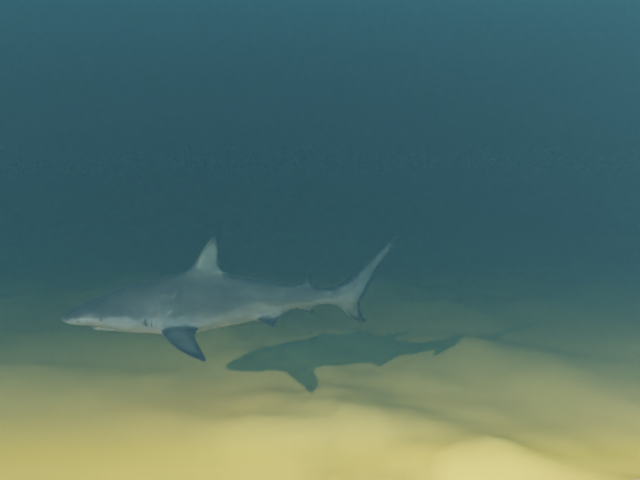Carribean Shark.001: (61, 235, 400, 361)
